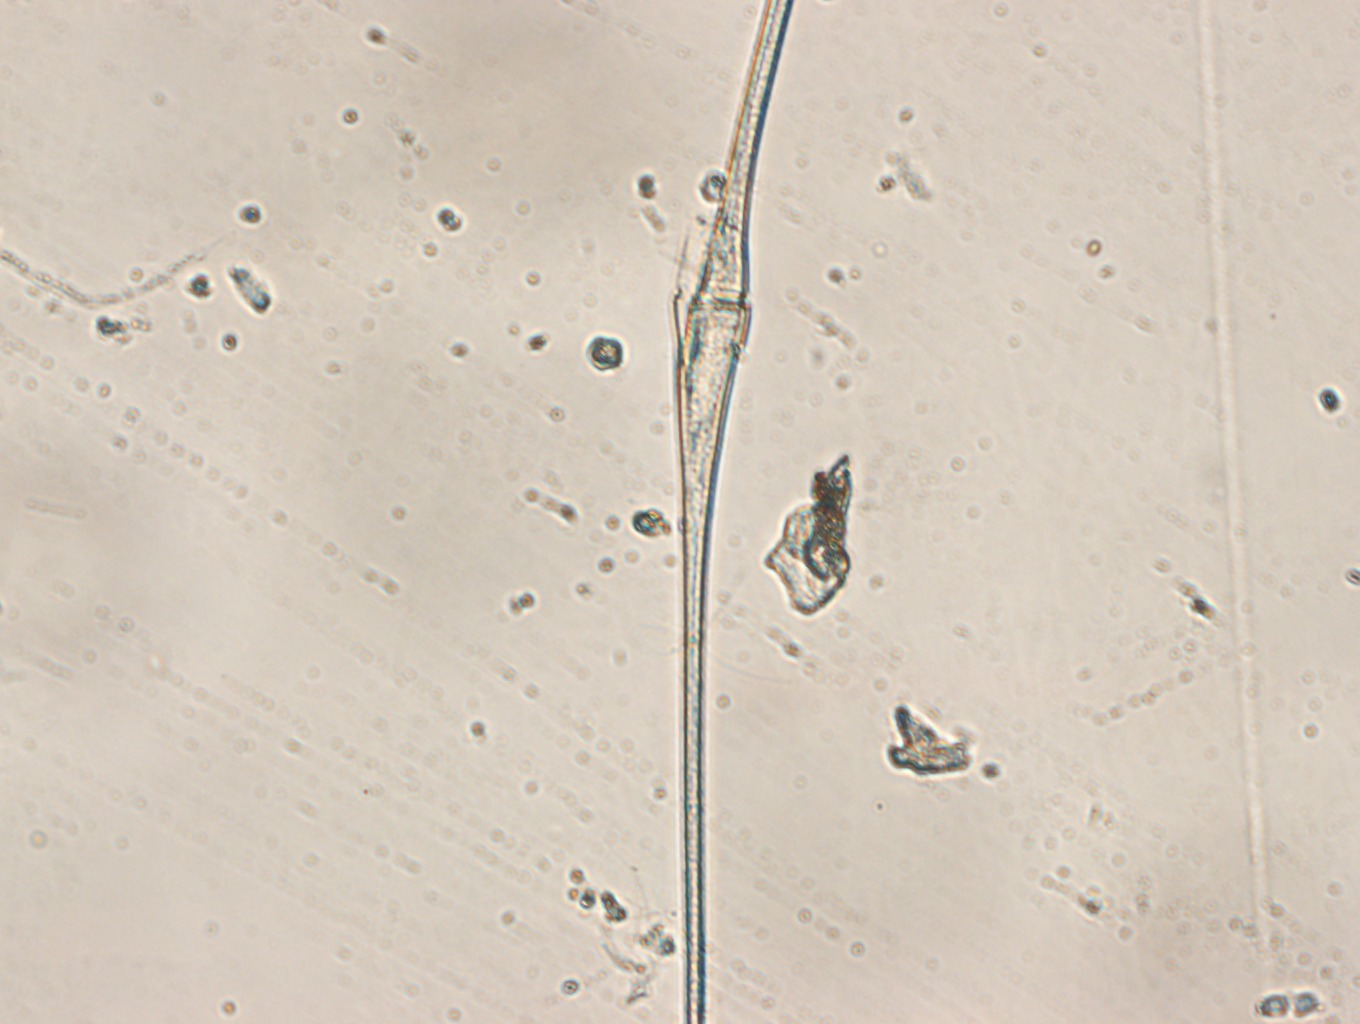ceratium fusus: (672, 1, 796, 1023)
